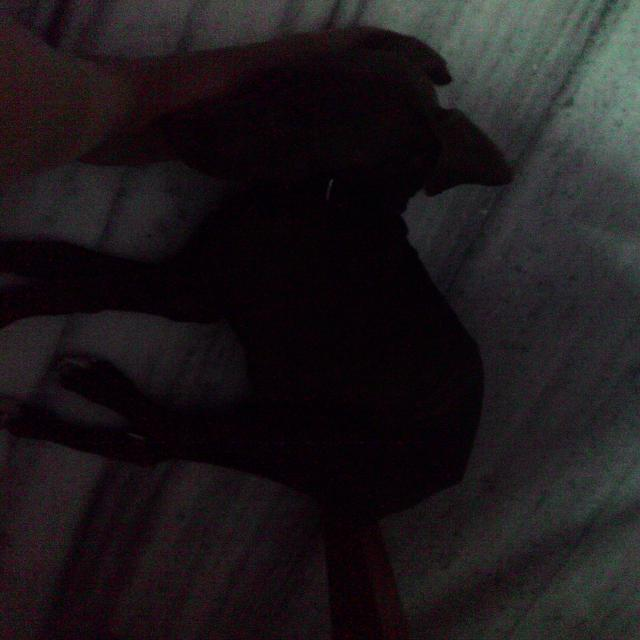Dog: (94, 55, 549, 640)
